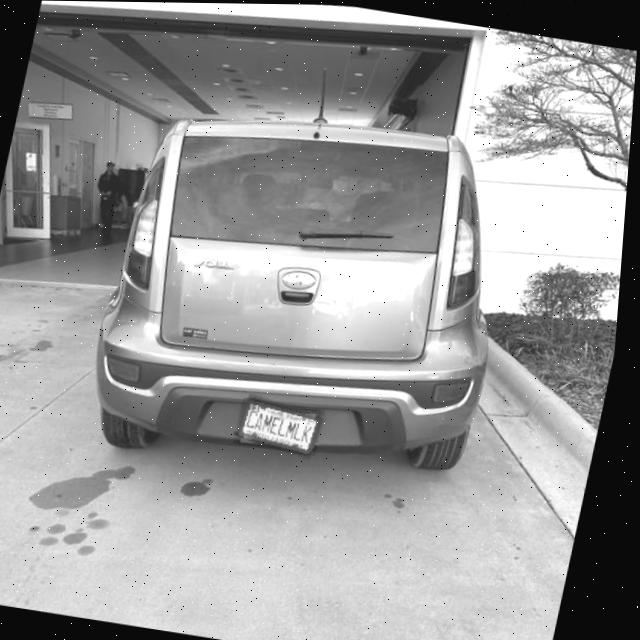LicensePlate: (242, 397, 329, 455)
